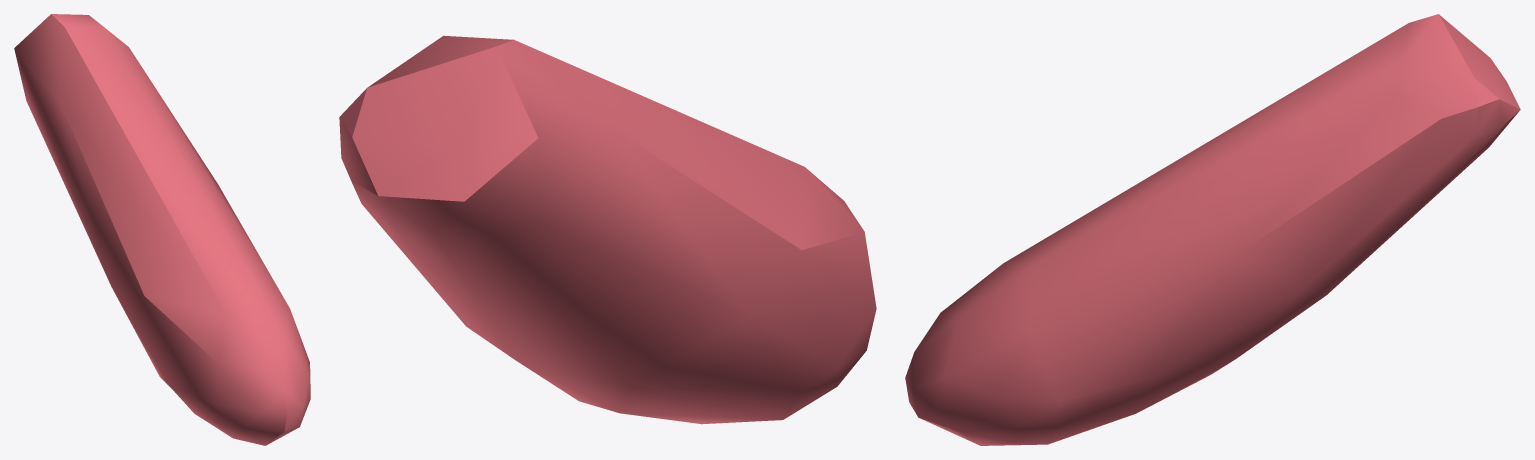
Rendered from fma8663_fj6093.glb.
3 views of the same model, side by side, from view 1: azimuth 30°, elevation 25°; view 2: azimuth 150°, elevation 25°; view 3: azimuth 270°, elevation 25° (orthographic). The views are drawn at different scales.
Parts seen in each view (by area): view 1: FMA8663_FJ6093; view 2: FMA8663_FJ6093; view 3: FMA8663_FJ6093.
Part boxes in pixels (left/top/right/bottom): FMA8663_FJ6093: left=14, top=14, right=310, bottom=445; FMA8663_FJ6093: left=339, top=35, right=876, bottom=424; FMA8663_FJ6093: left=905, top=14, right=1520, bottom=445.
Bounding box in the file's own units: 0.00276 × 0.00604 × 0.00834.
